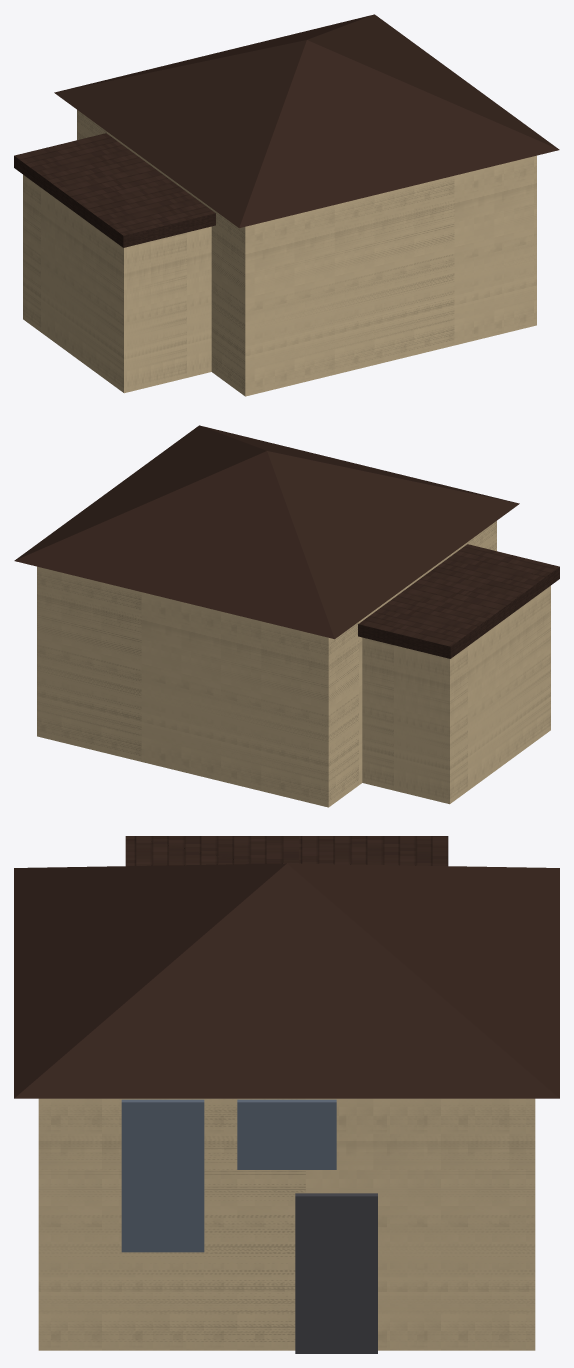
The model's file is house-c.glb.
3 views of the same model, one above another, from view 1: azimuth 30°, elevation 25°; view 2: azimuth 150°, elevation 25°; view 3: azimuth 270°, elevation 25° (orthographic). The views are drawn at different scales.
Parts seen in each view (by area): view 1: house-c; view 2: house-c; view 3: house-c.
Boxes of the visible parts, <box> form: house-c: <box>14,14,559,396</box>; house-c: <box>14,425,559,807</box>; house-c: <box>14,836,559,1353</box>.
Size of the model in its own units: 8.2 by 5.1 by 6.6.
Materials: 5 (3 with a texture image).
